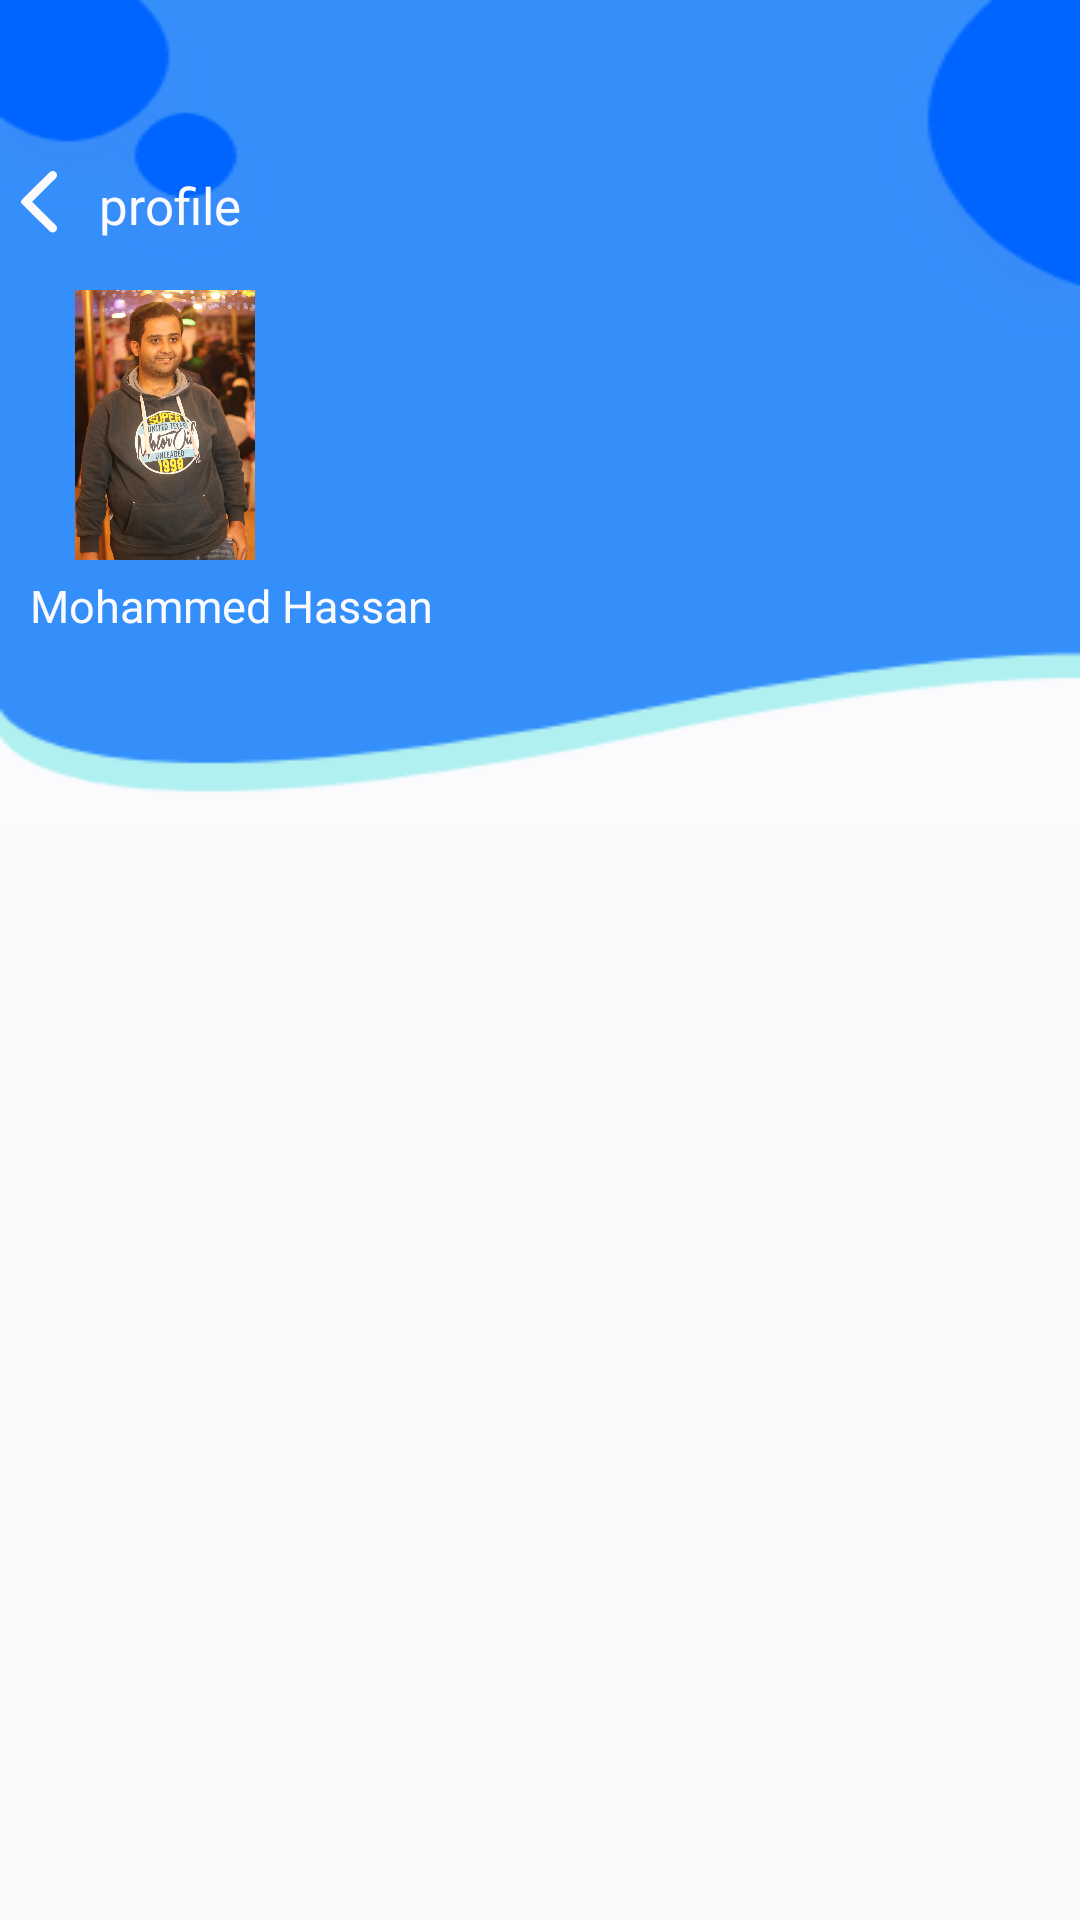

Screen size 1080px x 1920px. Icon name, then its box in pixels as [x1,y1,x2,y2]:
sham left: [21,171,57,233]
